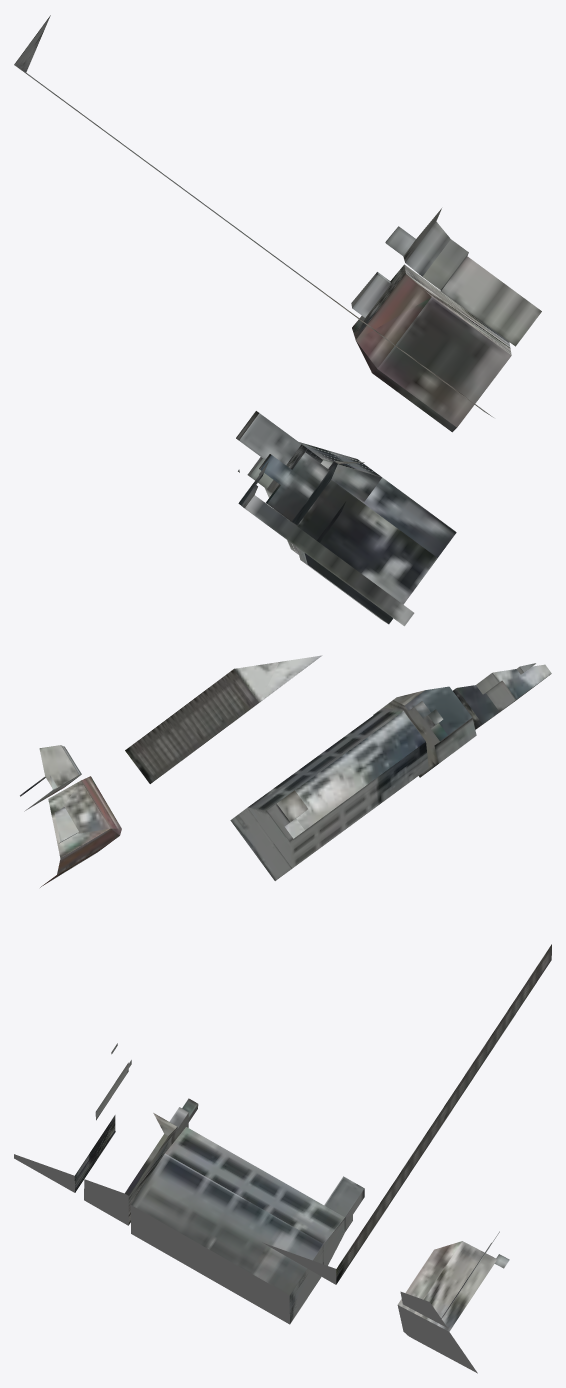
Rendered from 39546_bldg_Building.glb.
The picture shows the model from 3 angles, top to bottom: view 1: azimuth 30°, elevation 25°; view 2: azimuth 150°, elevation 25°; view 3: azimuth 270°, elevation 25°; orthographic projection. The views are drawn at different scales.
Size of the model in its own units: 80.4 by 67.2 by 97.06.
2 materials, 1 textured.
